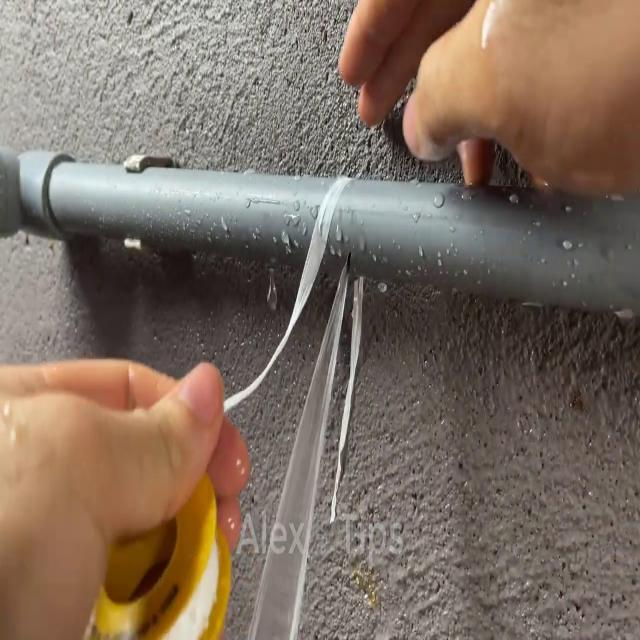leak: (247, 255, 351, 640)
